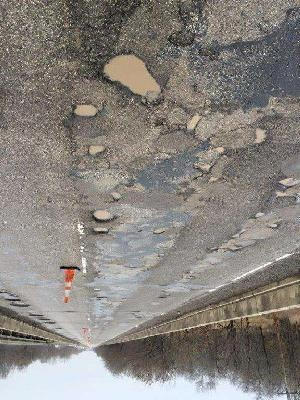pothole: (98, 52, 163, 108), (166, 0, 202, 48), (207, 238, 252, 254), (70, 102, 99, 120), (89, 206, 116, 223), (184, 112, 202, 134), (251, 124, 268, 145), (85, 144, 106, 158), (276, 177, 300, 188), (193, 163, 213, 175), (90, 225, 109, 237), (151, 226, 167, 236), (267, 219, 281, 230), (273, 191, 292, 199), (212, 145, 225, 156), (252, 210, 266, 220)
